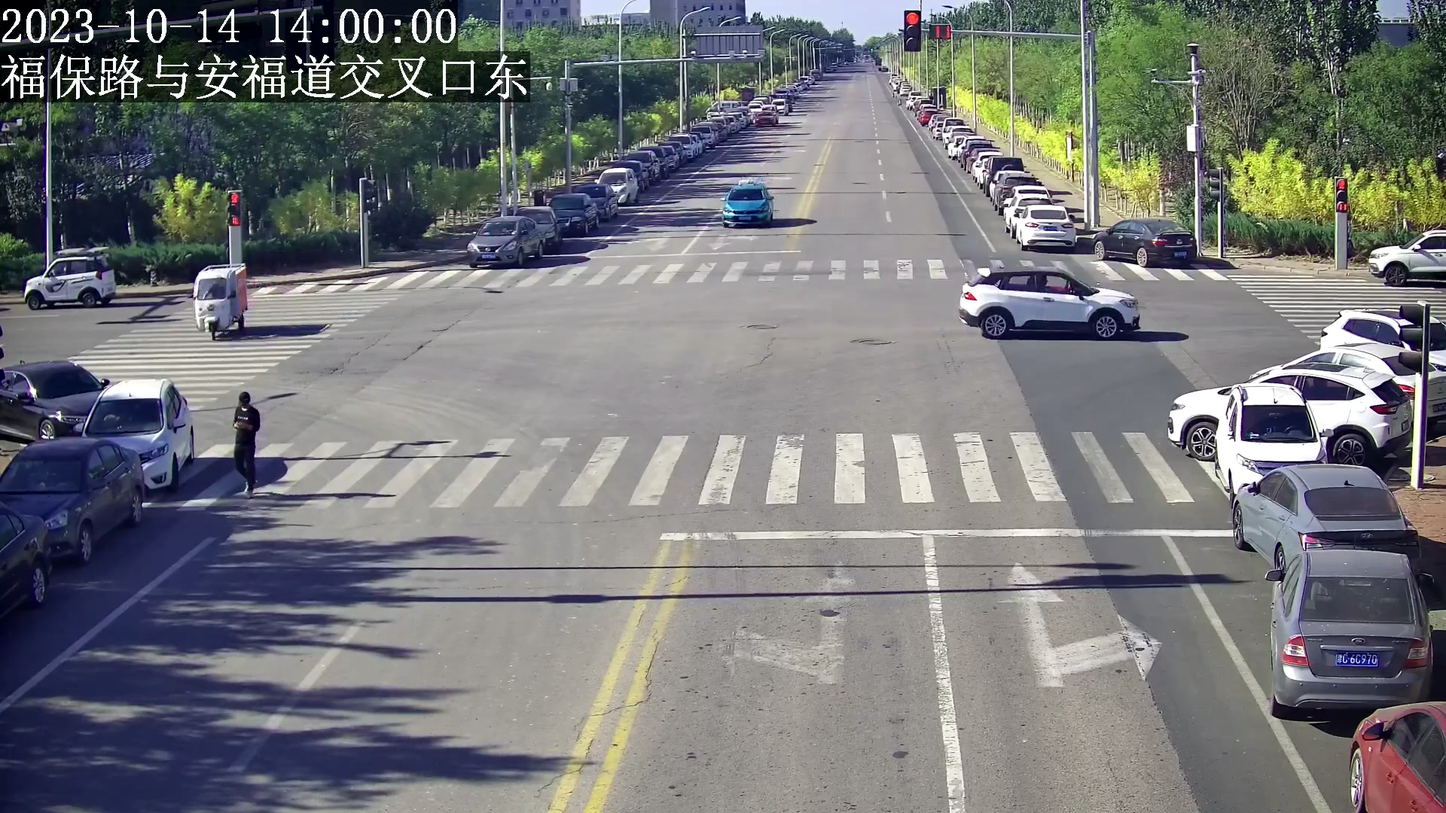person: (232, 388, 258, 498)
vehicle: (1262, 544, 1427, 713), (1167, 366, 1414, 465), (1229, 461, 1422, 565), (2, 438, 145, 559), (956, 265, 1142, 341), (79, 375, 199, 489), (1214, 379, 1329, 489), (1339, 698, 1444, 811), (0, 357, 110, 441), (1091, 216, 1203, 269), (21, 246, 115, 306), (1361, 222, 1446, 285), (192, 263, 251, 341), (463, 215, 550, 266), (1020, 203, 1080, 253), (720, 180, 775, 230)
